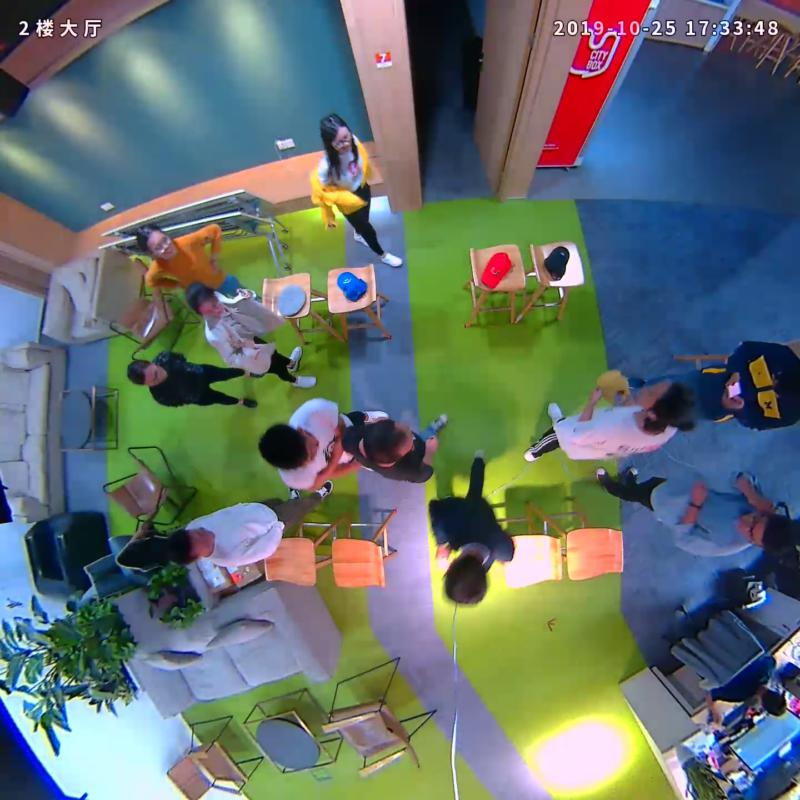head: (257, 423, 316, 471), (636, 378, 696, 423), (363, 419, 415, 465), (736, 509, 793, 550), (443, 556, 488, 606), (165, 528, 216, 563), (135, 224, 176, 258), (320, 112, 353, 154), (187, 281, 223, 316), (127, 359, 167, 385)
